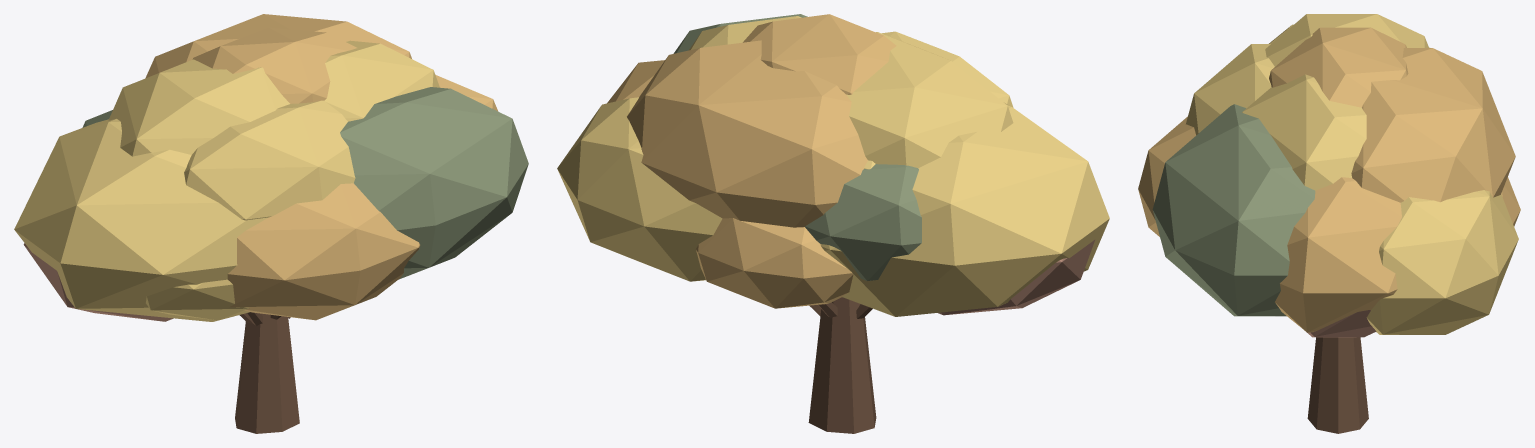
The model's file is tree_reference_oak_low_01_optimized.fbx.
3 renders of one model, left to right at view 1: azimuth 30°, elevation 25°; view 2: azimuth 150°, elevation 25°; view 3: azimuth 270°, elevation 25°, orthographic. The views are drawn at different scales.
Visible parts, largest first — view 1: tree_reference_oak_low_01_01_valendia_img2_gold_leaf_003, tree_reference_oak_low_01_04_valendia_img2_warm_leaf_003, tree_reference_oak_low_01_02_valendia_img2_olive_shadow_003, tree_reference_oak_low_01_00_valendia_dark_bark_003, tree_reference_oak_low_01_03_valendia_img2_russet_shadow_003; view 2: tree_reference_oak_low_01_01_valendia_img2_gold_leaf_003, tree_reference_oak_low_01_04_valendia_img2_warm_leaf_003, tree_reference_oak_low_01_02_valendia_img2_olive_shadow_003, tree_reference_oak_low_01_00_valendia_dark_bark_003, tree_reference_oak_low_01_03_valendia_img2_russet_shadow_003; view 3: tree_reference_oak_low_01_04_valendia_img2_warm_leaf_003, tree_reference_oak_low_01_01_valendia_img2_gold_leaf_003, tree_reference_oak_low_01_02_valendia_img2_olive_shadow_003, tree_reference_oak_low_01_00_valendia_dark_bark_003, tree_reference_oak_low_01_03_valendia_img2_russet_shadow_003.
Boxes of the visible parts, left/top/right/bottom form: tree_reference_oak_low_01_01_valendia_img2_gold_leaf_003: left=14, top=40, right=439, bottom=321; tree_reference_oak_low_01_04_valendia_img2_warm_leaf_003: left=145, top=14, right=498, bottom=320; tree_reference_oak_low_01_02_valendia_img2_olive_shadow_003: left=82, top=87, right=528, bottom=279; tree_reference_oak_low_01_00_valendia_dark_bark_003: left=235, top=312, right=299, bottom=433; tree_reference_oak_low_01_03_valendia_img2_russet_shadow_003: left=23, top=243, right=173, bottom=321; tree_reference_oak_low_01_01_valendia_img2_gold_leaf_003: left=557, top=16, right=1109, bottom=316; tree_reference_oak_low_01_04_valendia_img2_warm_leaf_003: left=607, top=14, right=896, bottom=308; tree_reference_oak_low_01_02_valendia_img2_olive_shadow_003: left=673, top=14, right=921, bottom=280; tree_reference_oak_low_01_00_valendia_dark_bark_003: left=808, top=297, right=876, bottom=433; tree_reference_oak_low_01_03_valendia_img2_russet_shadow_003: left=938, top=240, right=1094, bottom=315; tree_reference_oak_low_01_04_valendia_img2_warm_leaf_003: left=1138, top=27, right=1520, bottom=332; tree_reference_oak_low_01_01_valendia_img2_gold_leaf_003: left=1186, top=14, right=1518, bottom=334; tree_reference_oak_low_01_02_valendia_img2_olive_shadow_003: left=1152, top=104, right=1315, bottom=316; tree_reference_oak_low_01_00_valendia_dark_bark_003: left=1307, top=337, right=1368, bottom=433; tree_reference_oak_low_01_03_valendia_img2_russet_shadow_003: left=1304, top=310, right=1376, bottom=337.
Size of the model in its own units: 597 by 472 by 425.
